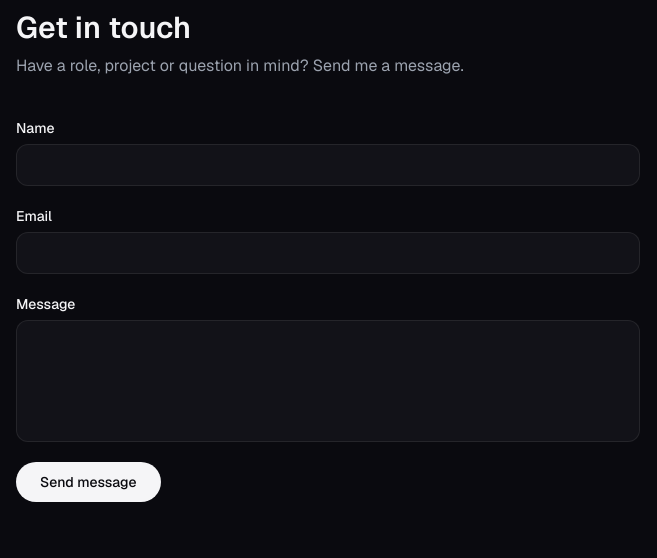
Test: Contact › submits valid input to /api/contact and shows a success message
Step 1. Type "Jane Doe" into the field labelled "Name" → (328,165), box [16,144,640,186]
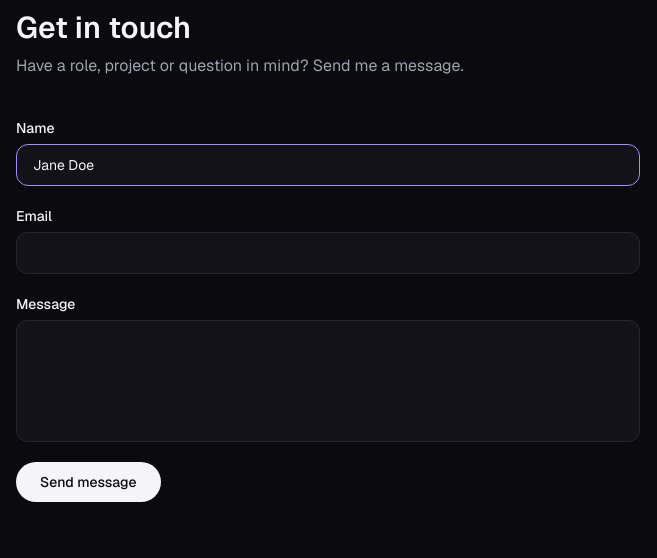
Step 2. Type "jane@example.com" into the field labelled "Email" → (328,253), box [16,232,640,274]
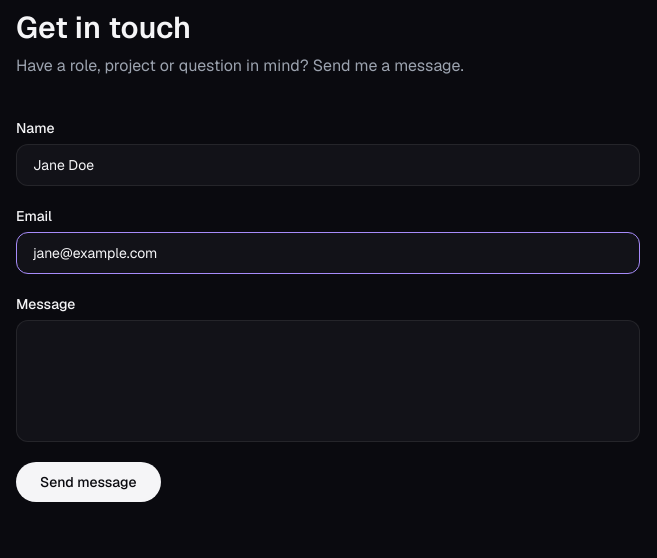
Step 3. Type "Hello, I would like to get in touch about a project." into the text box labelled "Message" → (328,381), box [16,320,640,442]
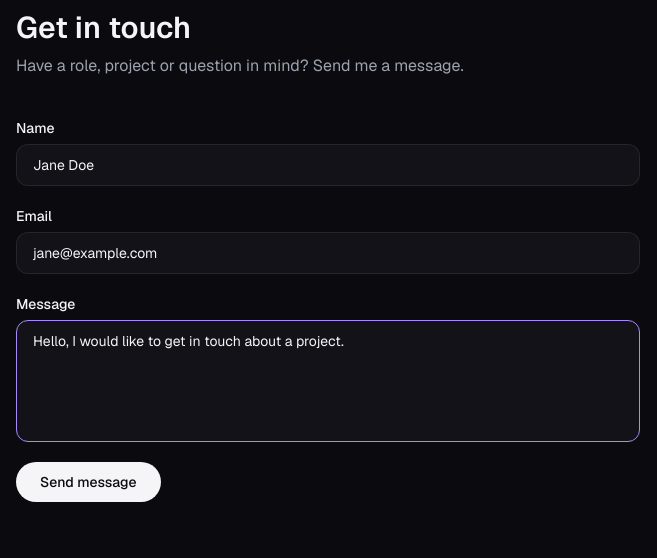
Step 4. Click the button "Send message" → (88,482), box [16,462,160,502]
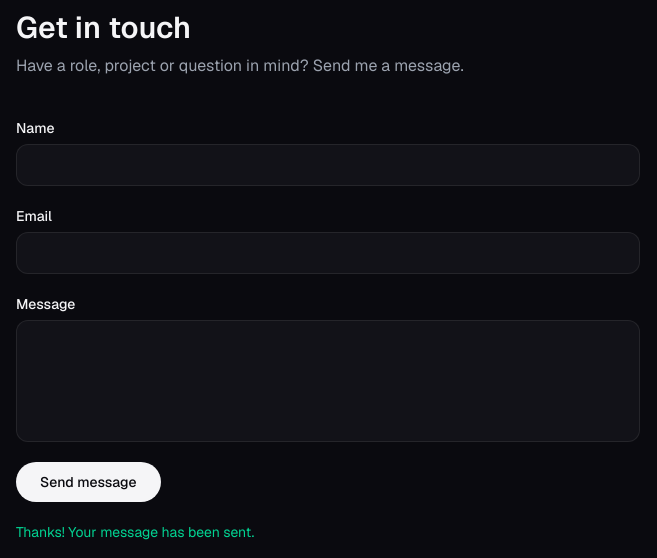
Now the text "Thanks! Your message has been sent." is shown, box [16,523,254,541]
